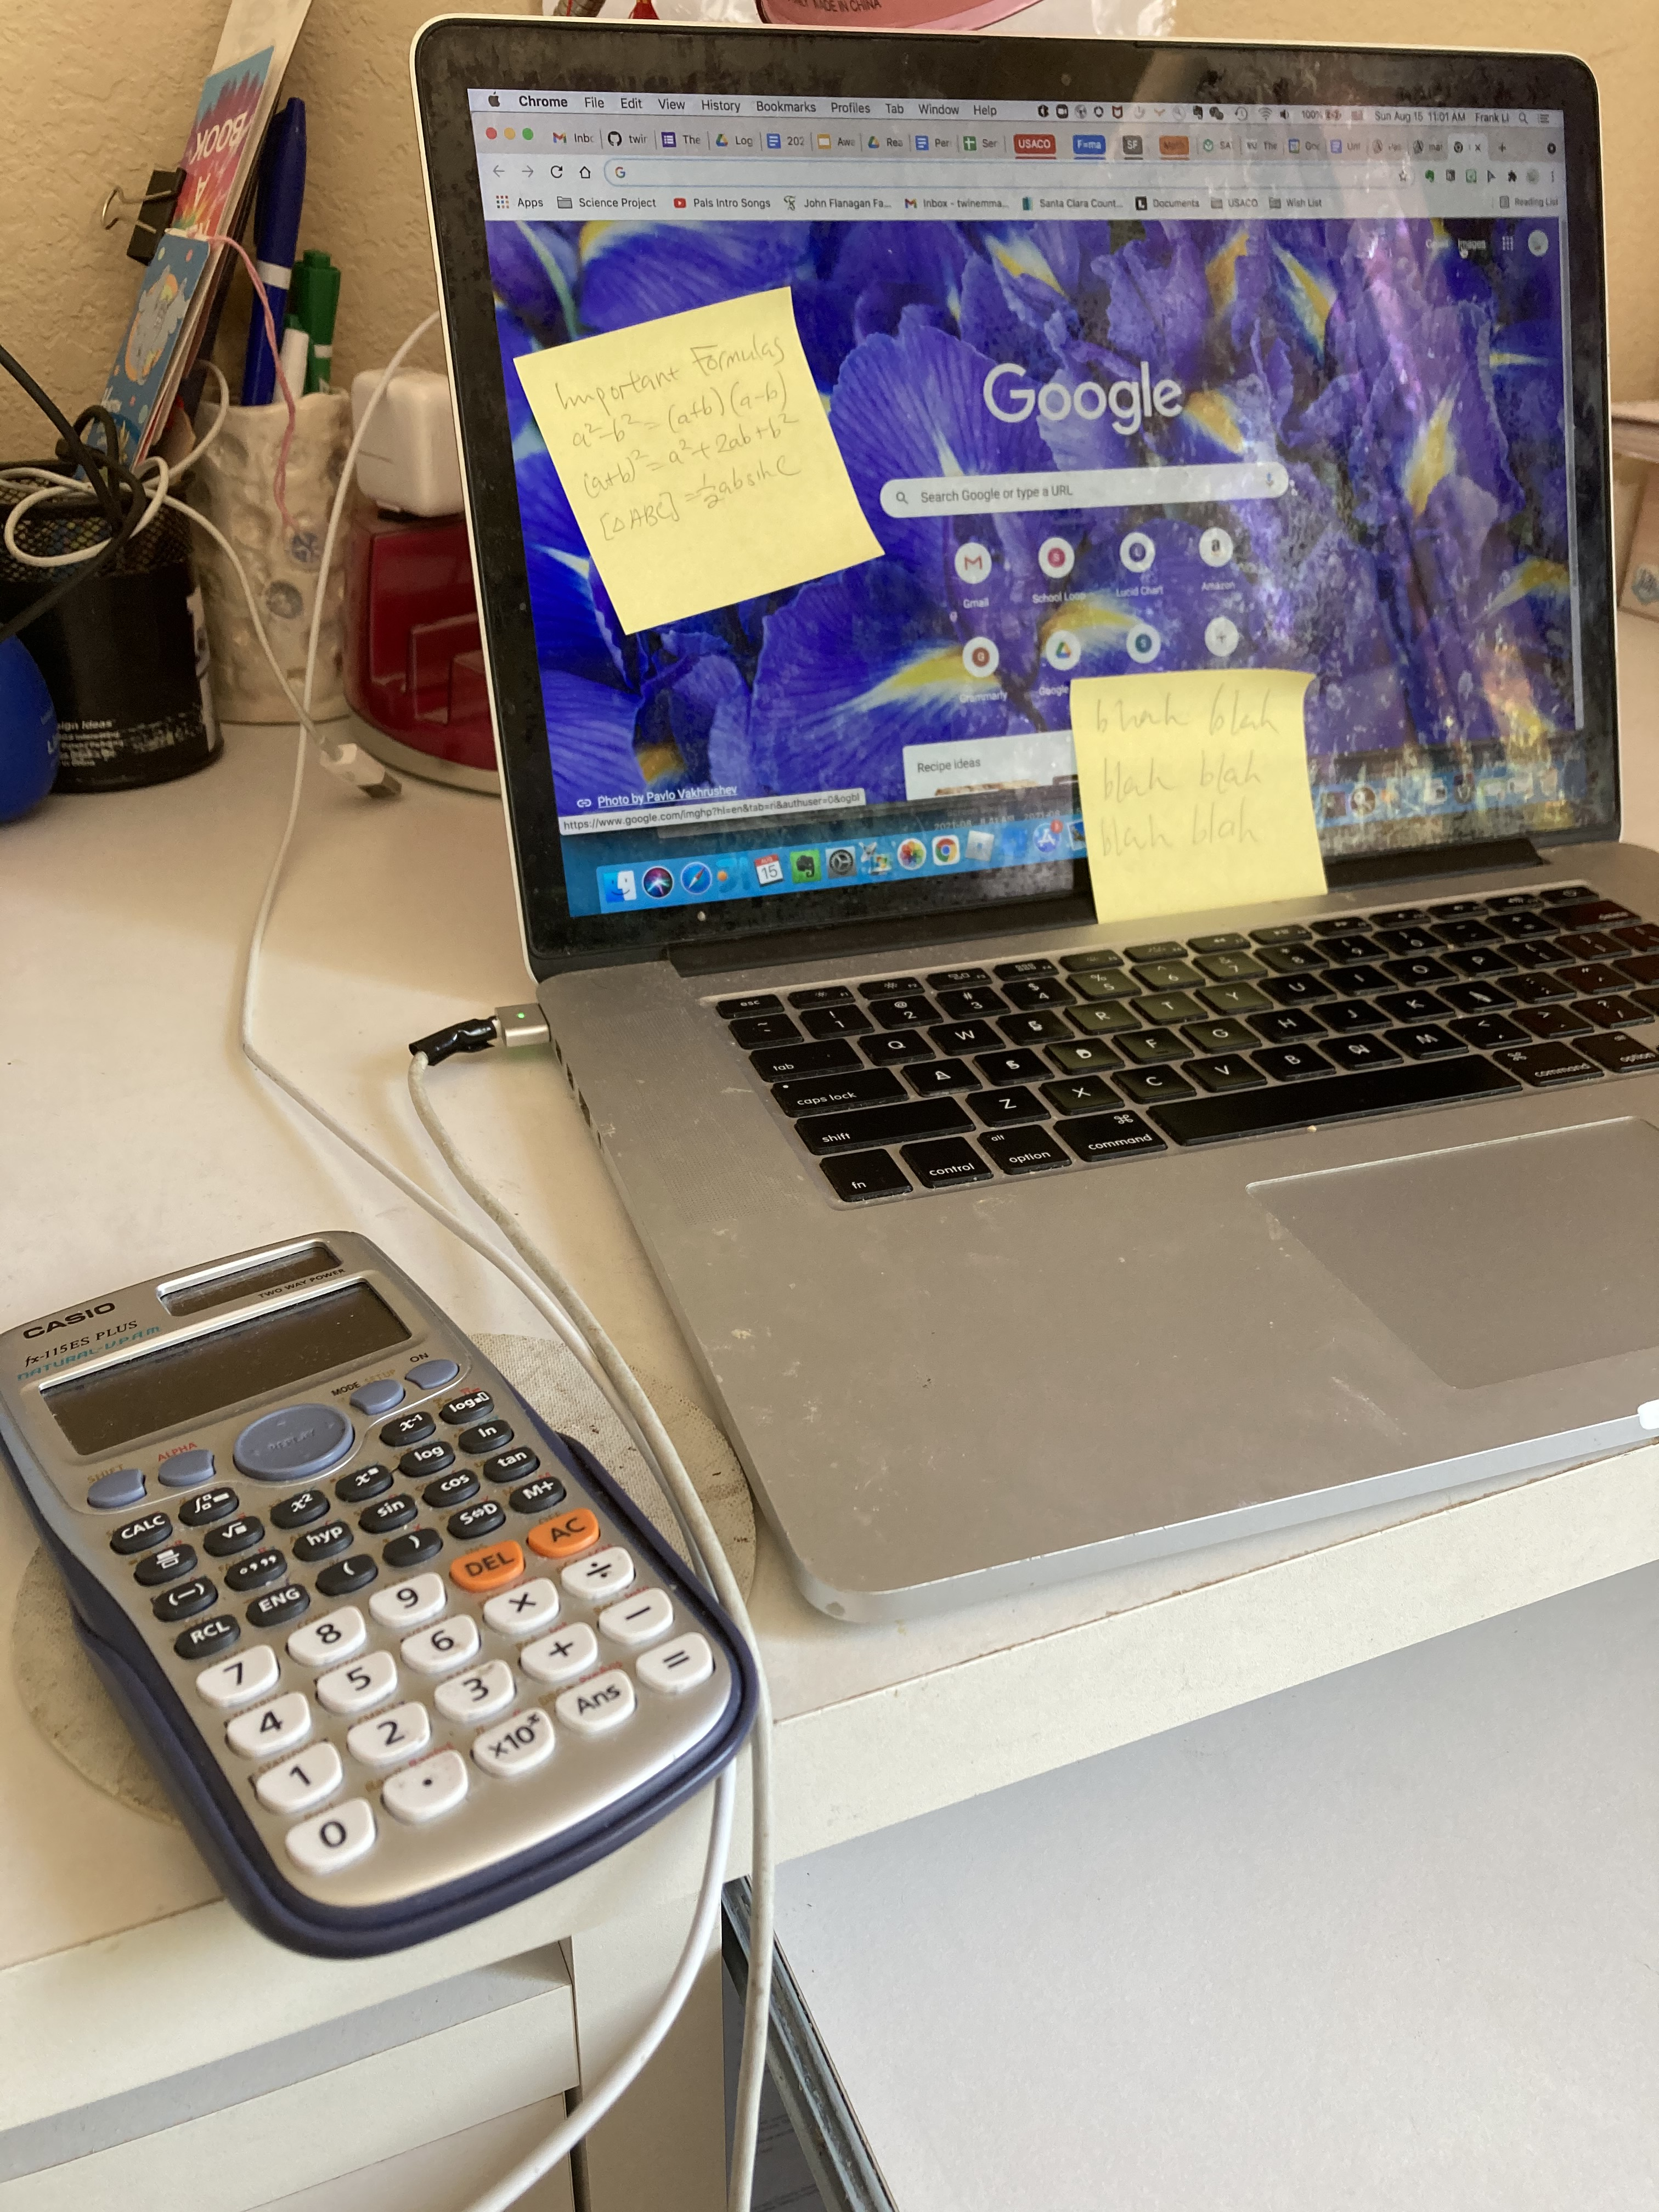Calculator: (16, 1233, 749, 1935)
Note: (521, 289, 885, 629), (1079, 660, 1340, 907)
